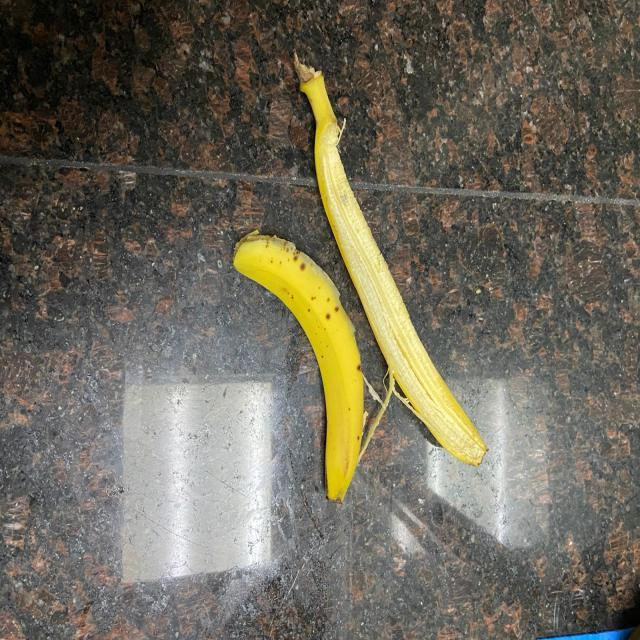banana: (262, 66, 485, 496)
